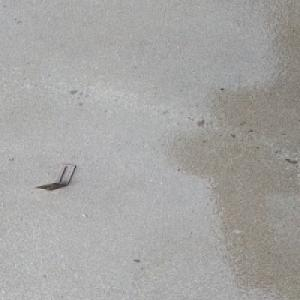MetalPart: (34, 163, 77, 191)
